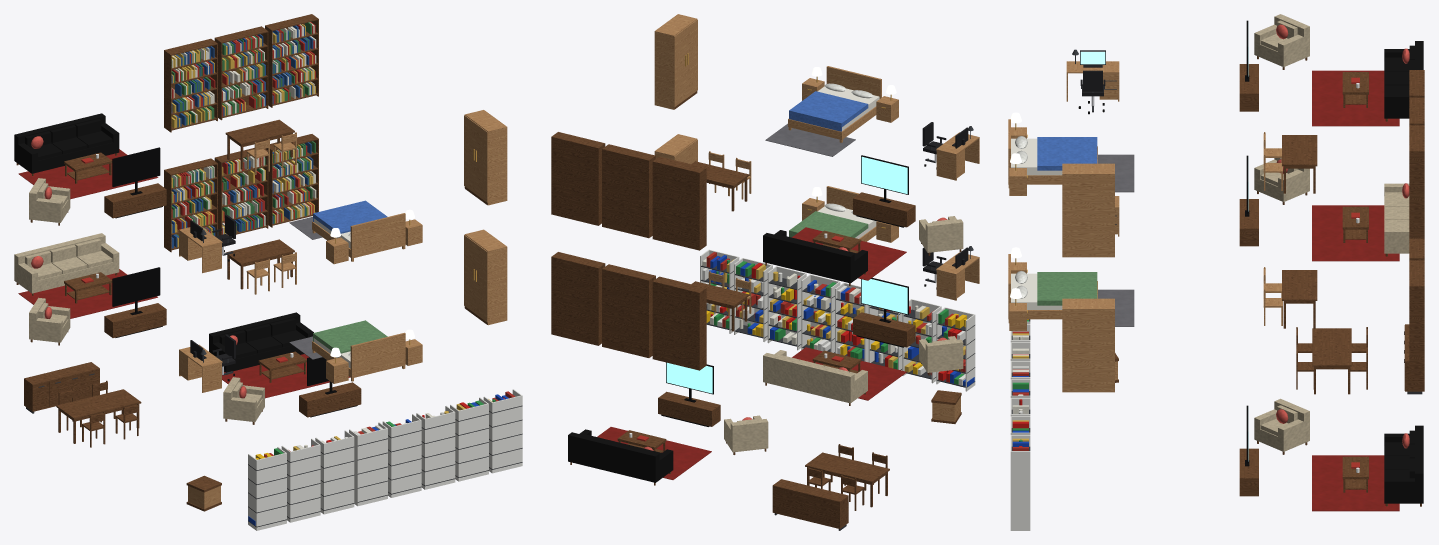
The model's file is i_japanese_castle.gltf.
The picture shows the model from 3 angles, left to right: view 1: azimuth 30°, elevation 25°; view 2: azimuth 150°, elevation 25°; view 3: azimuth 270°, elevation 25°; orthographic projection. The views are drawn at different scales.
Visible parts, largest first — view 1: I_japanese_castle; view 2: I_japanese_castle; view 3: I_japanese_castle.
Boxes of the visible parts, bbox=[...] form: I_japanese_castle: bbox=[14, 14, 522, 530]; I_japanese_castle: bbox=[551, 14, 979, 530]; I_japanese_castle: bbox=[1008, 14, 1424, 530].
Bounding box in the file's own units: 11.34 × 9.2 × 9.51.
30 materials, 10 textured.
